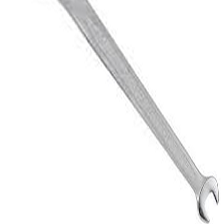wrench: (58, 1, 224, 218)
